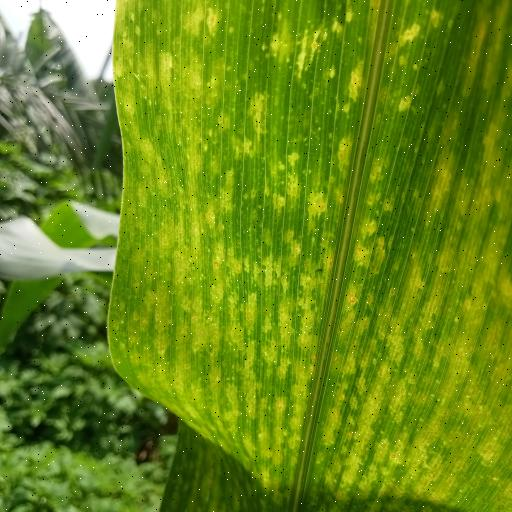Corn_Brown_Spots: (115, 7, 512, 512)
